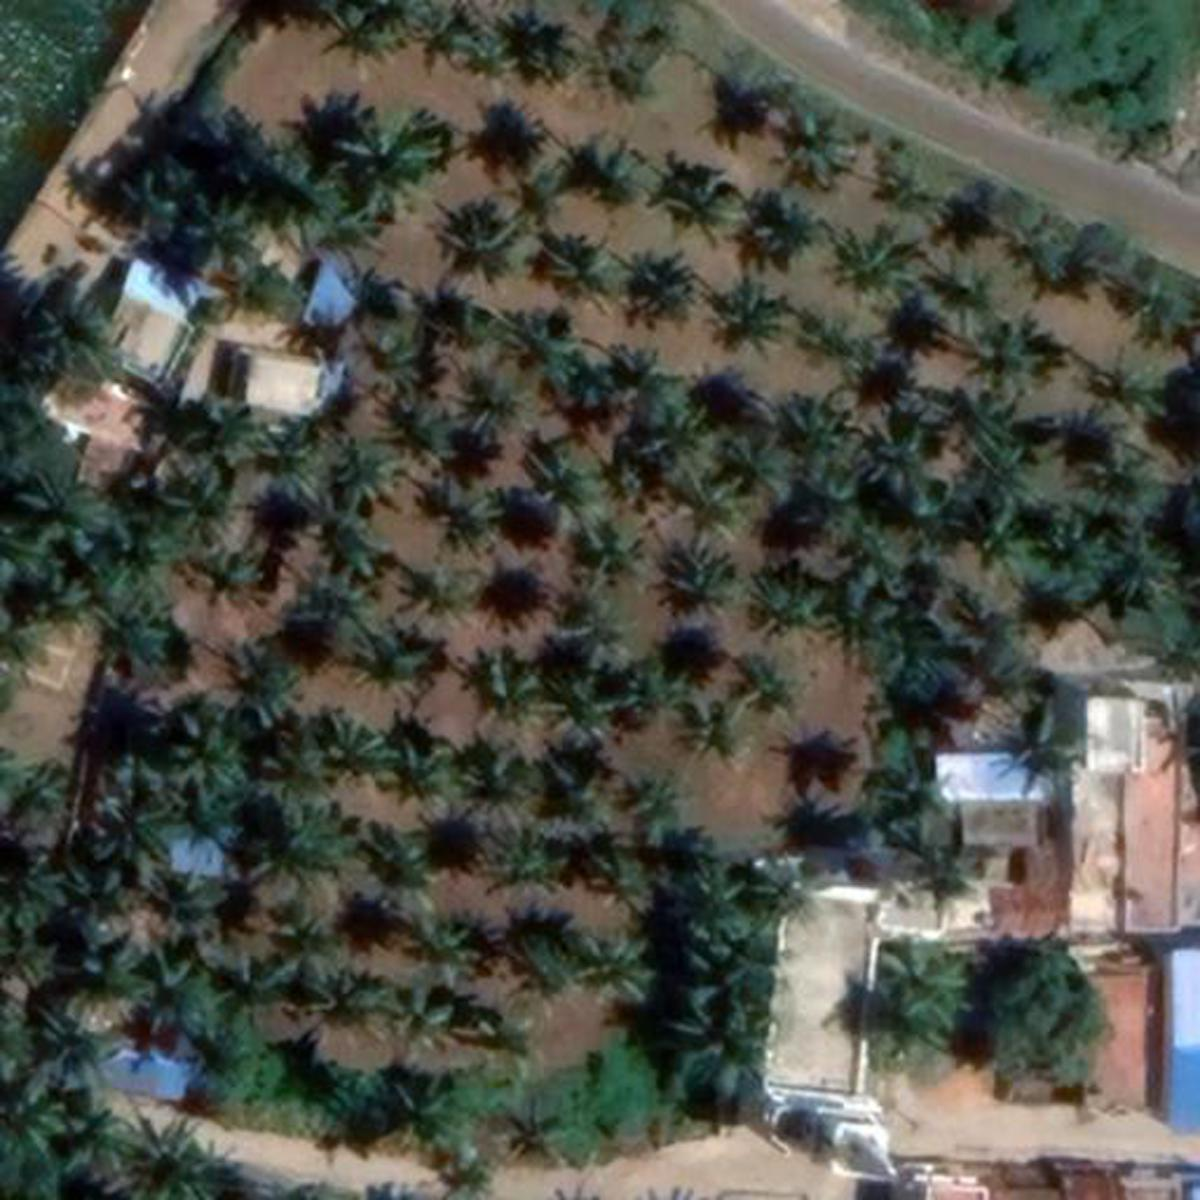coconut: (337, 100, 454, 234), (1059, 421, 1195, 522), (103, 946, 236, 1045), (255, 885, 370, 996), (9, 459, 119, 560), (284, 693, 393, 795), (684, 984, 785, 1092), (370, 724, 482, 816), (953, 496, 1051, 597), (166, 182, 278, 267), (541, 656, 632, 759), (398, 478, 520, 555), (32, 295, 131, 389), (703, 264, 792, 363), (93, 792, 192, 881), (1113, 243, 1200, 344), (149, 468, 257, 549), (93, 592, 199, 675), (82, 522, 187, 604), (851, 424, 956, 505), (878, 937, 967, 1033), (944, 391, 1040, 478), (1103, 522, 1190, 618), (677, 878, 787, 953), (332, 426, 426, 513), (532, 227, 632, 309), (516, 445, 618, 525), (1014, 213, 1108, 300), (635, 398, 733, 480), (135, 1105, 222, 1197), (1078, 351, 1171, 435), (454, 996, 557, 1071), (363, 825, 464, 902), (271, 795, 367, 876), (7, 1051, 79, 1157), (485, 309, 585, 386), (714, 637, 820, 710), (255, 140, 344, 225), (660, 473, 768, 543), (492, 816, 585, 897), (571, 927, 656, 1014), (375, 1066, 464, 1148), (832, 220, 923, 300), (2, 846, 77, 944), (171, 707, 262, 787), (956, 325, 1052, 400), (103, 735, 199, 810), (189, 396, 281, 471), (459, 351, 549, 427), (1033, 510, 1110, 600), (349, 630, 454, 696), (600, 344, 684, 426), (438, 203, 520, 288), (4, 749, 77, 843), (789, 391, 867, 478), (747, 195, 836, 269), (407, 909, 489, 989), (229, 638, 311, 716), (403, 564, 482, 644), (670, 538, 747, 621), (75, 1099, 159, 1174), (780, 105, 855, 189), (667, 684, 752, 757), (375, 984, 464, 1052), (541, 584, 632, 649), (471, 738, 549, 815), (585, 836, 667, 907), (752, 574, 841, 638), (358, 327, 438, 396), (496, 916, 581, 979), (574, 516, 651, 584), (881, 135, 944, 216), (114, 166, 189, 234), (321, 9, 398, 75), (585, 142, 653, 215), (677, 173, 745, 246), (548, 766, 627, 829), (499, 16, 578, 79), (478, 644, 546, 716), (625, 255, 693, 325), (187, 538, 262, 600), (510, 164, 581, 225), (792, 304, 864, 365), (614, 778, 700, 827), (302, 557, 365, 623), (445, 27, 515, 86), (267, 433, 323, 501), (944, 255, 996, 318)
